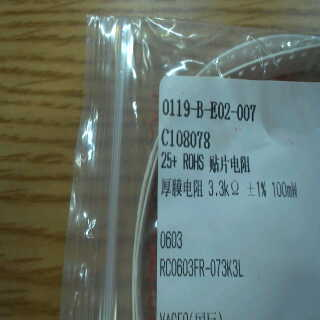3.3kO: (206, 178, 246, 198)
